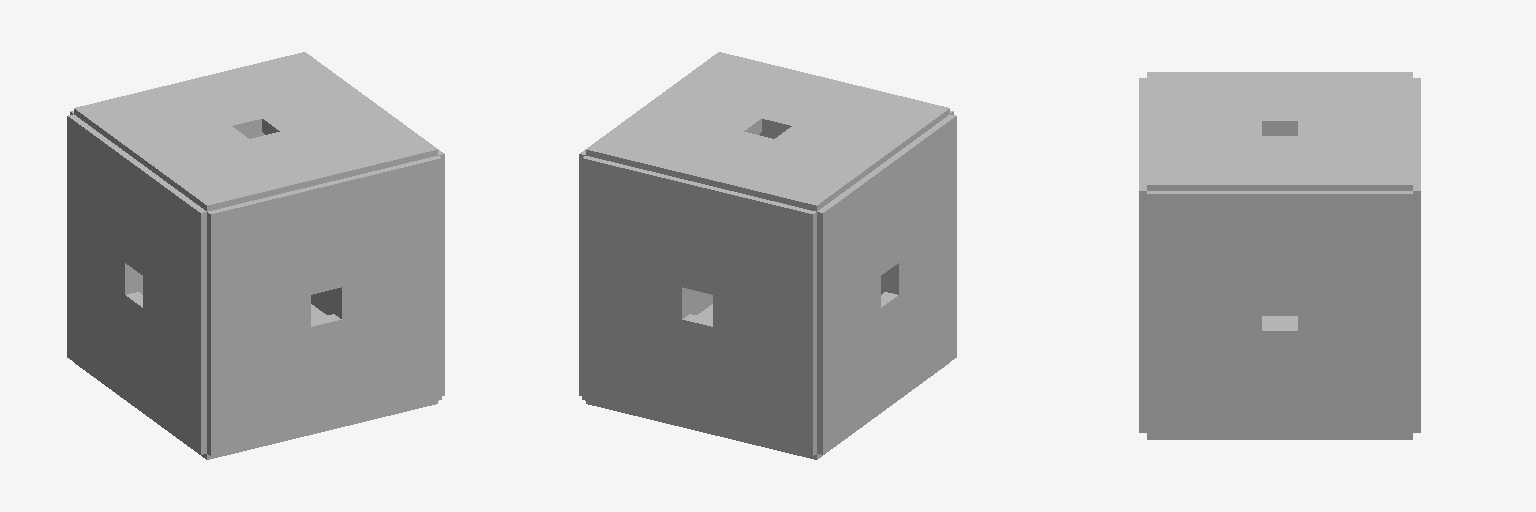
The model's file is Wall.obj.
The picture shows the model from 3 angles: view 1: azimuth 30°, elevation 25°; view 2: azimuth 150°, elevation 25°; view 3: azimuth 270°, elevation 25°; orthographic projection.
Parts seen in each view (by area): view 1: Wall.003_Cube.003, Wall_Cube, Wall.005_Cube.005, Wall.004_Cube.004, Wall.002_Cube.002; view 2: Wall.006_Cube.006, Wall_Cube, Wall.005_Cube.005, Wall.001_Cube.001, Wall.004_Cube.004, Wall.002_Cube.002; view 3: Wall.004_Cube.004, Wall.005_Cube.005, Wall.003_Cube.003, Wall.006_Cube.006, Wall.002_Cube.002, Wall.001_Cube.001, Wall_Cube.
Part boxes in pixels (left/top/right/bottom): Wall.003_Cube.003: left=207, top=156, right=441, bottom=455; Wall_Cube: left=67, top=114, right=206, bottom=454; Wall.005_Cube.005: left=74, top=52, right=437, bottom=211; Wall.004_Cube.004: left=311, top=56, right=444, bottom=395; Wall.002_Cube.002: left=75, top=304, right=437, bottom=459; Wall.006_Cube.006: left=582, top=156, right=816, bottom=454; Wall_Cube: left=817, top=114, right=956, bottom=454; Wall.005_Cube.005: left=586, top=52, right=949, bottom=211; Wall.001_Cube.001: left=582, top=156, right=816, bottom=455; Wall.004_Cube.004: left=579, top=56, right=712, bottom=395; Wall.002_Cube.002: left=586, top=304, right=948, bottom=459; Wall.004_Cube.004: left=1147, top=191, right=1412, bottom=435; Wall.005_Cube.005: left=1147, top=72, right=1412, bottom=190; Wall.003_Cube.003: left=1139, top=78, right=1146, bottom=432; Wall.006_Cube.006: left=1413, top=78, right=1420, bottom=432; Wall.002_Cube.002: left=1147, top=316, right=1412, bottom=439; Wall.001_Cube.001: left=1413, top=79, right=1420, bottom=430; Wall_Cube: left=1262, top=135, right=1297, bottom=315.
Bounding box in the file's own units: 2.11 × 2.11 × 2.11.